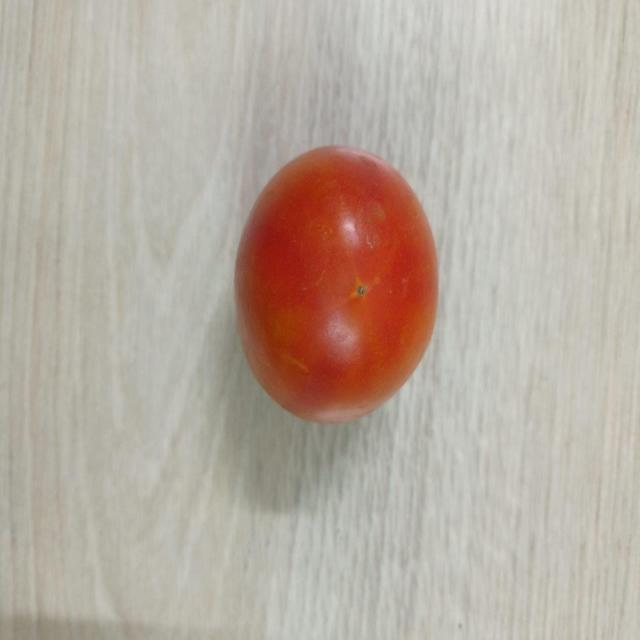Tomato: (235, 145, 440, 428)
